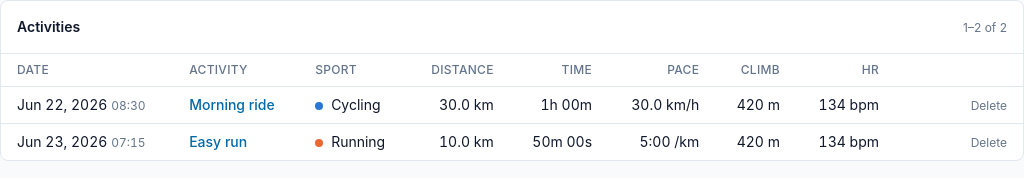
WorkoutTable › keeps the activity when the confirmation is cancelled
Click the button with aria-label "Delete Easy run". click: (989, 143)
box: [971, 135, 1007, 151]
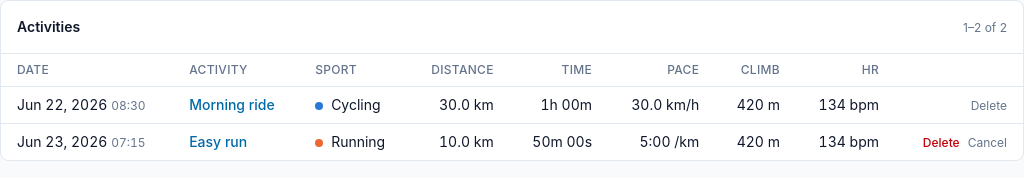
Click the button with aria-label "Keep Easy run". click: (987, 143)
box: [968, 135, 1007, 151]
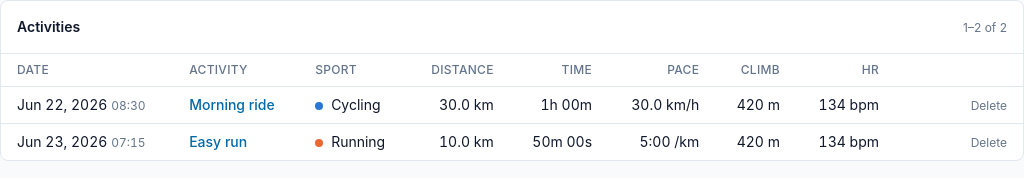
Now the button with aria-label "Delete Easy run" is shown, box [971, 135, 1007, 151]
